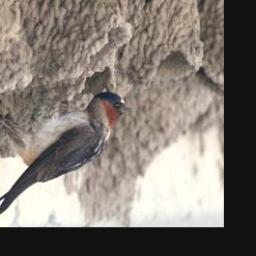Swallow: (0, 90, 133, 215)
